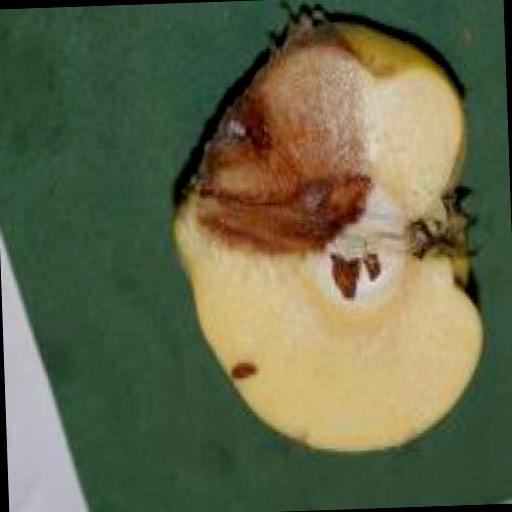biodegradable: (164, 8, 490, 466)
